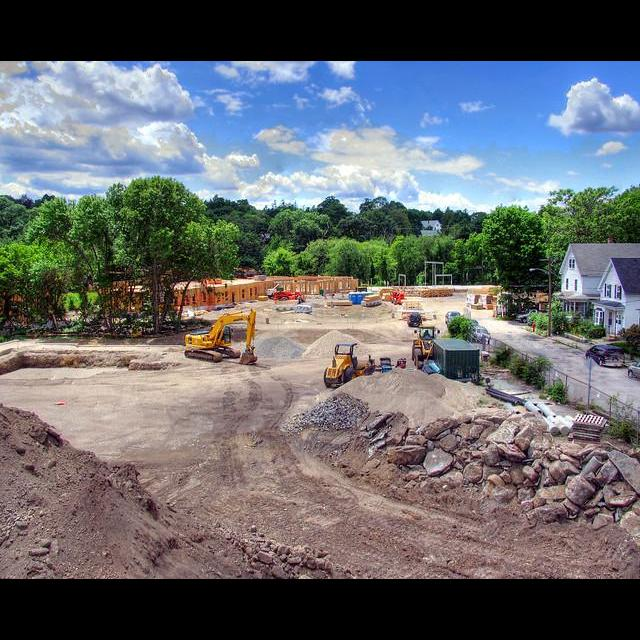Excavator: (186, 307, 258, 366)
SUV: (473, 325, 491, 342)
fire hydrant: (492, 305, 495, 317), (532, 323, 535, 333)
mini-van: (585, 344, 625, 368)
sedan: (627, 360, 640, 380), (445, 311, 462, 325), (407, 312, 422, 327), (468, 318, 479, 327)
truck: (516, 310, 548, 323)
wheel loader: (325, 342, 380, 390), (412, 325, 440, 369)
